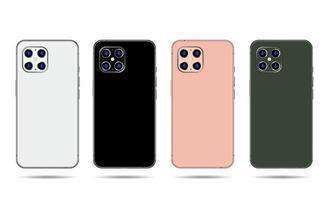phone: (16, 38, 80, 168), (250, 39, 314, 169), (93, 39, 156, 169), (171, 39, 234, 169)
